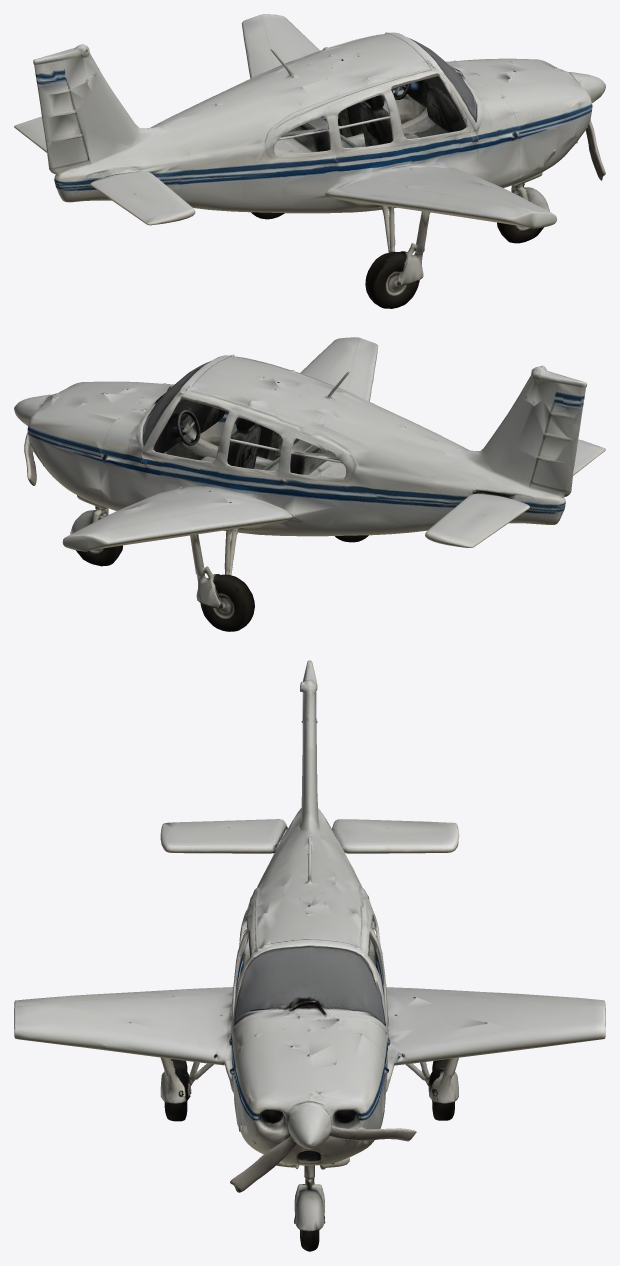
File: avion-tourisme.glb
The picture shows the model from 3 angles, top to bottom: view 1: azimuth 30°, elevation 25°; view 2: azimuth 150°, elevation 25°; view 3: azimuth 270°, elevation 25°; orthographic projection. The views are drawn at different scales.
Parts seen in each view (by area): view 1: tripo_node_4166f4f5-f840-49c0-b379-d8bfb9fd3f54; view 2: tripo_node_4166f4f5-f840-49c0-b379-d8bfb9fd3f54; view 3: tripo_node_4166f4f5-f840-49c0-b379-d8bfb9fd3f54.
Part boxes in pixels (x1=…): tripo_node_4166f4f5-f840-49c0-b379-d8bfb9fd3f54: x1=14, y1=14, x2=605, y2=308; tripo_node_4166f4f5-f840-49c0-b379-d8bfb9fd3f54: x1=14, y1=337, x2=605, y2=631; tripo_node_4166f4f5-f840-49c0-b379-d8bfb9fd3f54: x1=14, y1=660, x2=605, y2=1251.
Size of the model in its own units: 0.9996 by 0.5085 by 0.8213.
1 material, 1 textured.
